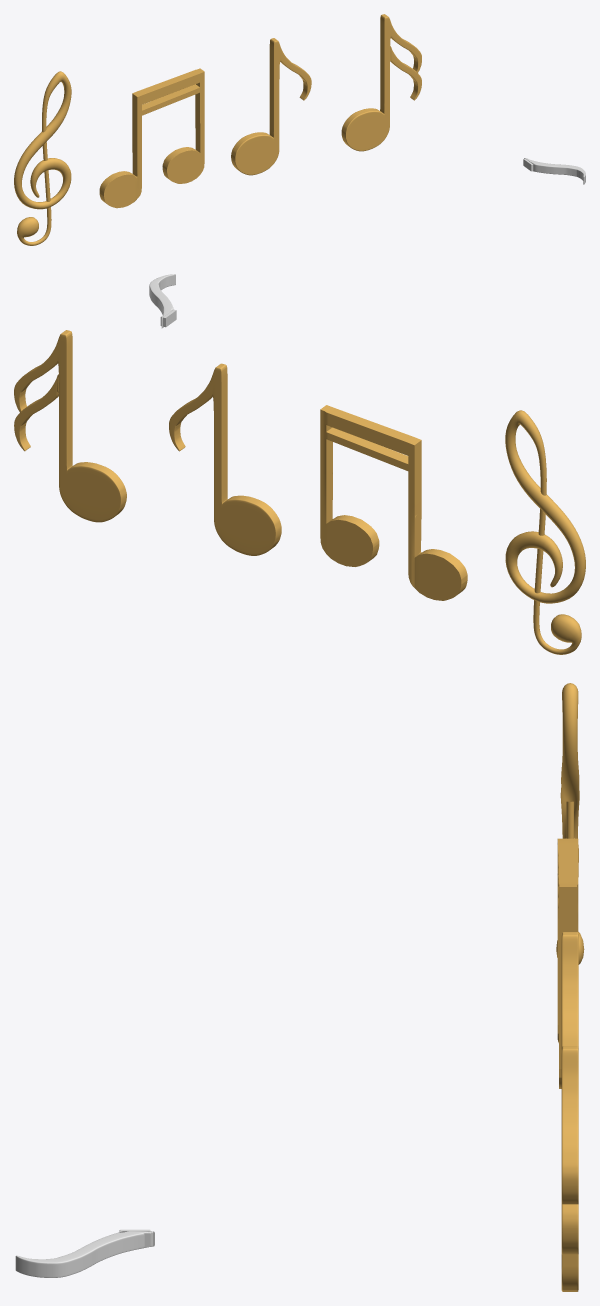
The picture shows the model from 3 angles, top to bottom: view 1: azimuth 30°, elevation 25°; view 2: azimuth 150°, elevation 25°; view 3: azimuth 270°, elevation 25°; orthographic projection. The views are drawn at different scales.
Visible parts, largest first — view 1: Cube.001, Line002, Note-1.001, Note-1, bbb; view 2: Cube.001, Line002, Note-1.001, Note-1, bbb; view 3: Note-1.001, Line002, bbb, Cube.001, Note-1.
Boxes of the visible parts, left/top/right/bottom form: Cube.001: left=99, top=68, right=204, bottom=208; Line002: left=14, top=71, right=71, bottom=245; Note-1.001: left=341, top=14, right=421, bottom=151; Note-1: left=231, top=38, right=311, bottom=175; bbb: left=524, top=158, right=585, bottom=184; Cube.001: left=320, top=405, right=467, bottom=600; Line002: left=505, top=410, right=585, bottom=654; Note-1.001: left=14, top=330, right=126, bottom=522; Note-1: left=169, top=363, right=281, bottom=555; bbb: left=149, top=274, right=175, bottom=328; Note-1.001: left=561, top=1046, right=578, bottom=1291; Line002: left=556, top=683, right=584, bottom=964; bbb: left=15, top=1231, right=154, bottom=1277; Cube.001: left=557, top=838, right=578, bottom=1088; Note-1: left=561, top=932, right=578, bottom=1048.
Size of the model in its own units: 932 by 340 by 523.
